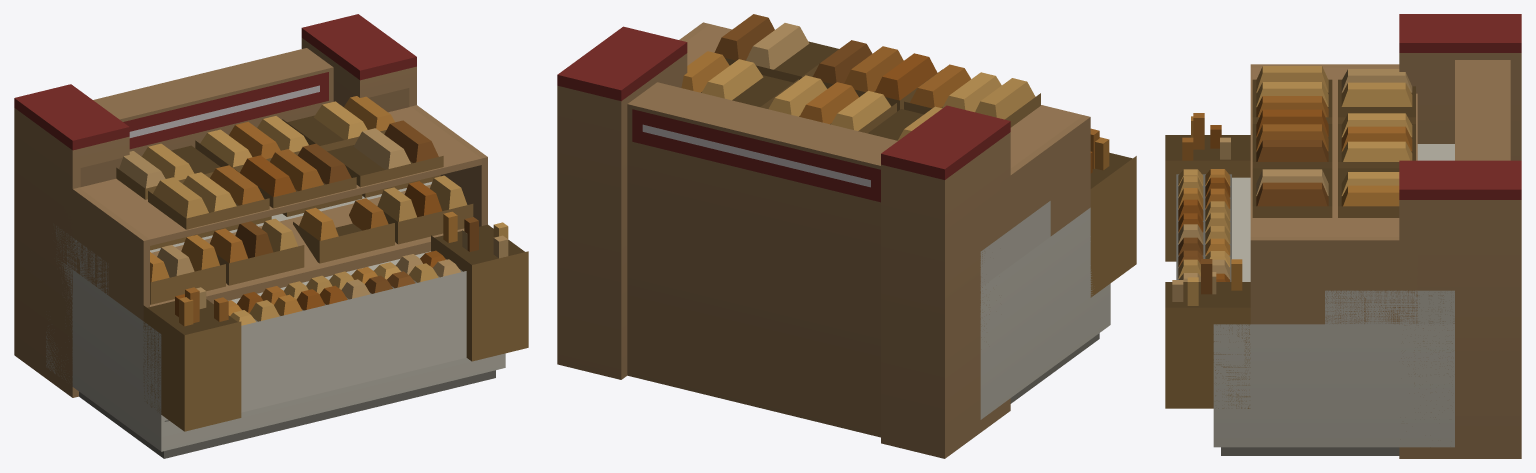
File: shop.bakery_stand.white.glb
The picture shows the model from 3 angles, left to right: view 1: azimuth 30°, elevation 25°; view 2: azimuth 150°, elevation 25°; view 3: azimuth 270°, elevation 25°; orthographic projection. The views are drawn at different scales.
Visible parts, largest first — view 1: shop_bakery_stand_white; view 2: shop_bakery_stand_white; view 3: shop_bakery_stand_white.
Boxes of the visible parts, bbox=[...] form: shop_bakery_stand_white: bbox=[14, 14, 528, 458]; shop_bakery_stand_white: bbox=[557, 14, 1136, 458]; shop_bakery_stand_white: bbox=[1165, 14, 1521, 458].
Size of what is drawn, in the model's own units: 2.24 by 1.6 by 1.92.
